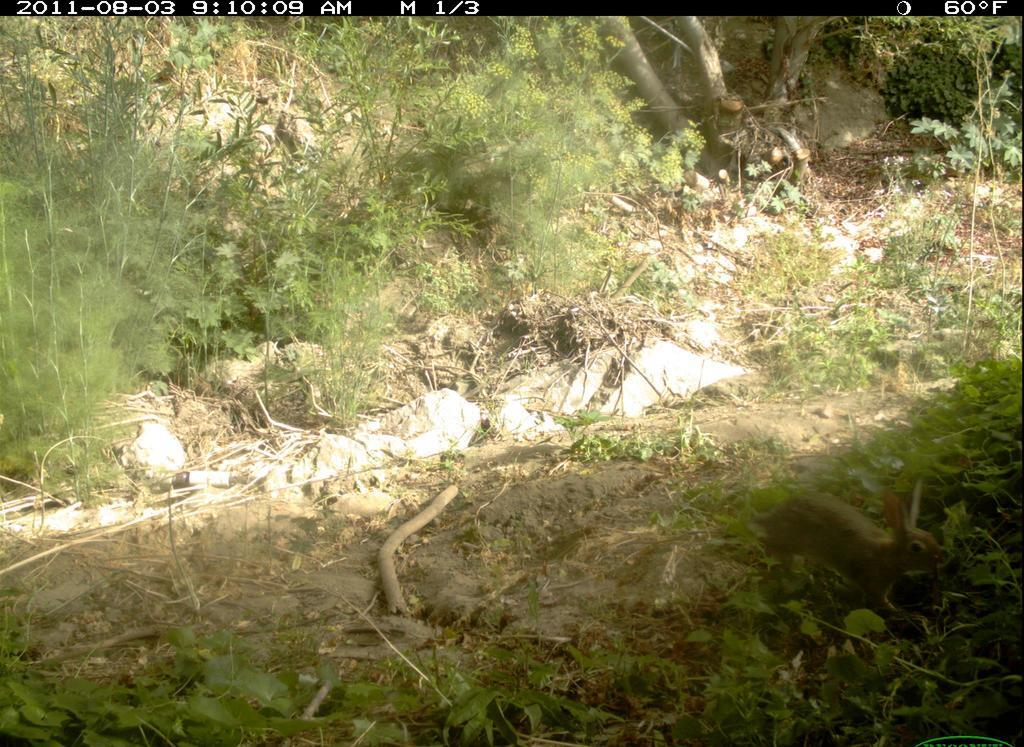rabbit: (747, 469, 953, 633)
